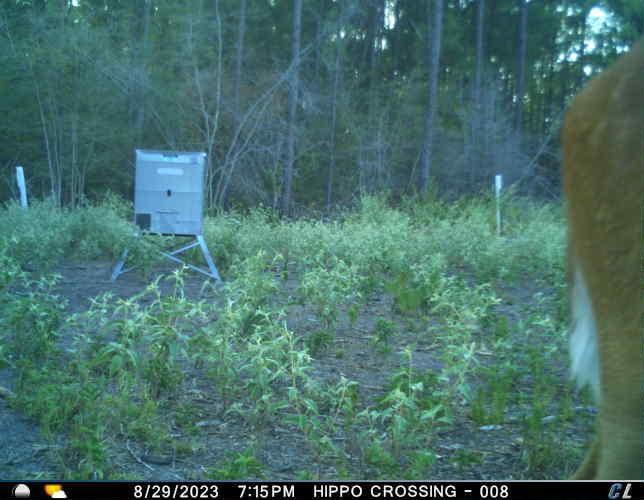Deer: (555, 30, 644, 481)
